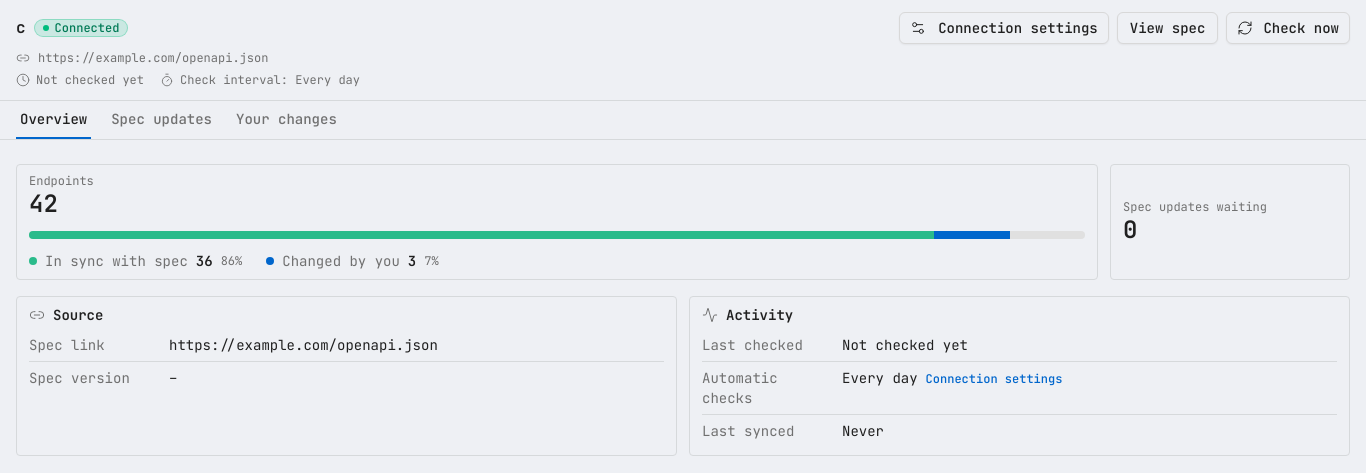
Scenario: OpenApiSyncTab › empty updates state › the_empty_updates_state_says_when_it_was_never_checked
Click the tab "Spec updates" at (162, 122), box [107,105,216,139]
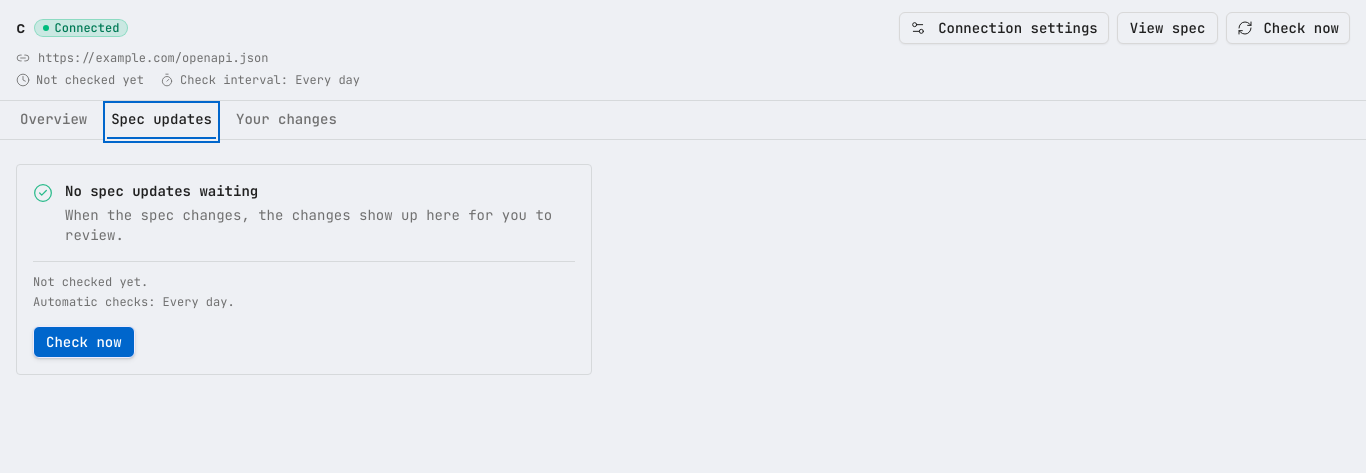
Expected: the heading "No spec updates waiting" is shown, [65,182,258,200]
Expected: the text "Not checked yet." is shown, [33,274,148,290]
